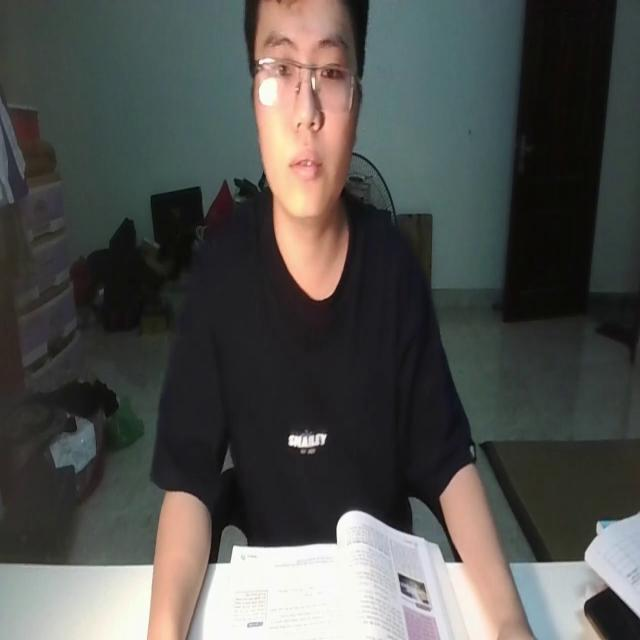book: (229, 510, 467, 640)
student: (144, 0, 535, 640)
